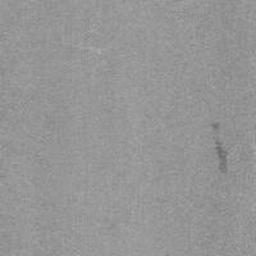Inclusion: (215, 138, 228, 174), (210, 122, 220, 133), (240, 152, 251, 162)
